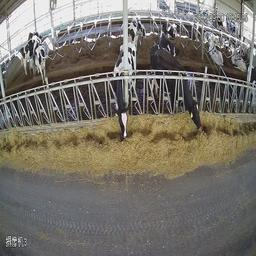cow: (149, 42, 206, 137), (113, 43, 137, 140), (31, 41, 48, 87), (20, 40, 40, 76), (158, 30, 176, 59), (230, 47, 247, 73), (127, 15, 139, 51), (209, 39, 224, 67)
